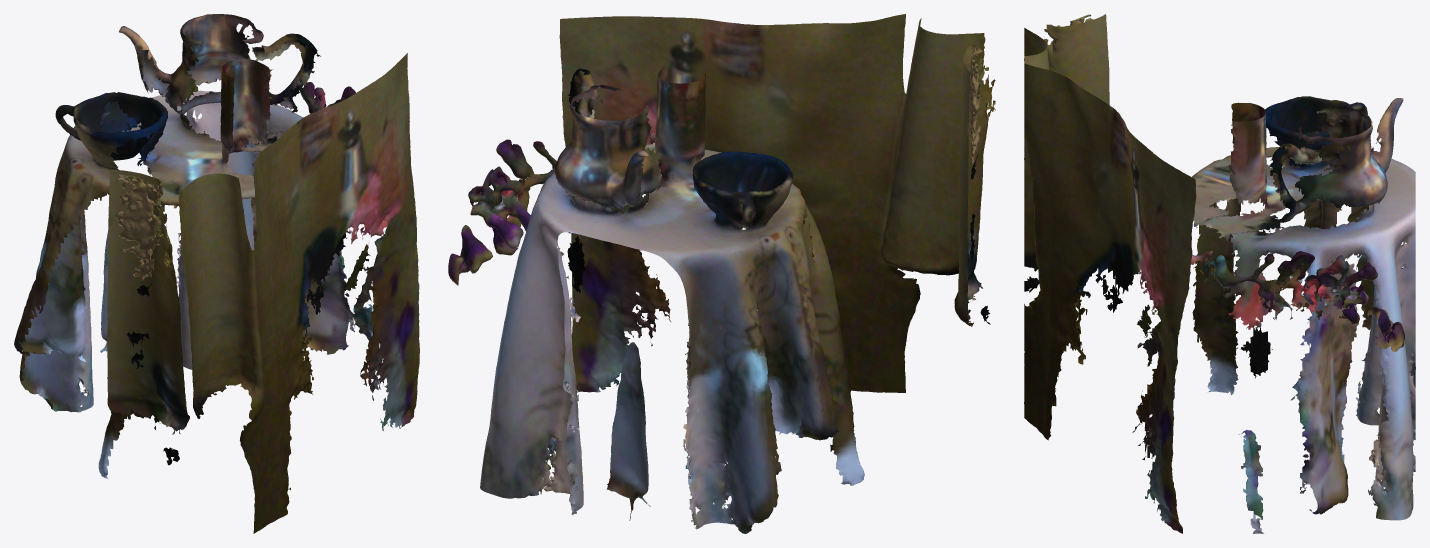
The model's file is table.glb.
3 renders of one model, left to right at view 1: azimuth 30°, elevation 25°; view 2: azimuth 150°, elevation 25°; view 3: azimuth 270°, elevation 25°, orthographic. The views are drawn at different scales.
Visible parts, largest first — view 1: Model; view 2: Model; view 3: Model.
Part boxes in pixels (left/top/right/bottom): Model: left=14, top=14, right=419, bottom=533; Model: left=448, top=14, right=995, bottom=533; Model: left=1024, top=14, right=1415, bottom=533.
Bounding box in the file's own units: 6.02 × 6.02 × 6.02.
1 material, 1 textured.
